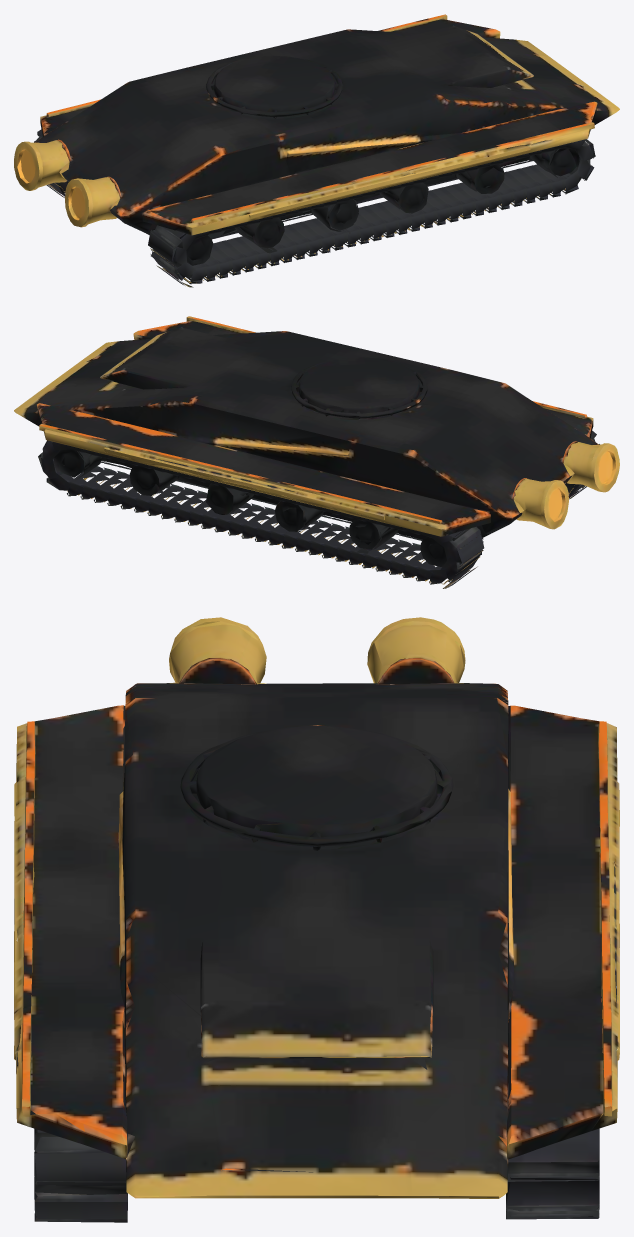
The model's file is chassis-scout-2-light.glb.
3 renders of one model, top to bottom at view 1: azimuth 30°, elevation 25°; view 2: azimuth 150°, elevation 25°; view 3: azimuth 270°, elevation 25°, orthographic. The views are drawn at different scales.
Visible parts, largest first — view 1: chassis-scout-2-light; view 2: chassis-scout-2-light; view 3: chassis-scout-2-light.
Boxes of the visible parts, x1=… form: chassis-scout-2-light: x1=14, y1=14, x2=619, y2=287; chassis-scout-2-light: x1=14, y1=316, x2=619, y2=588; chassis-scout-2-light: x1=14, y1=617, x2=619, y2=1222.
Size of the model in its own units: 1.98 by 0.4219 by 1.
1 material, 1 textured.
